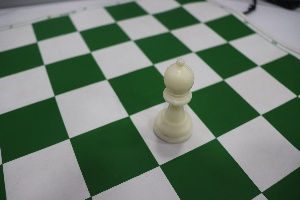white_bishop: (152, 50, 198, 152)
